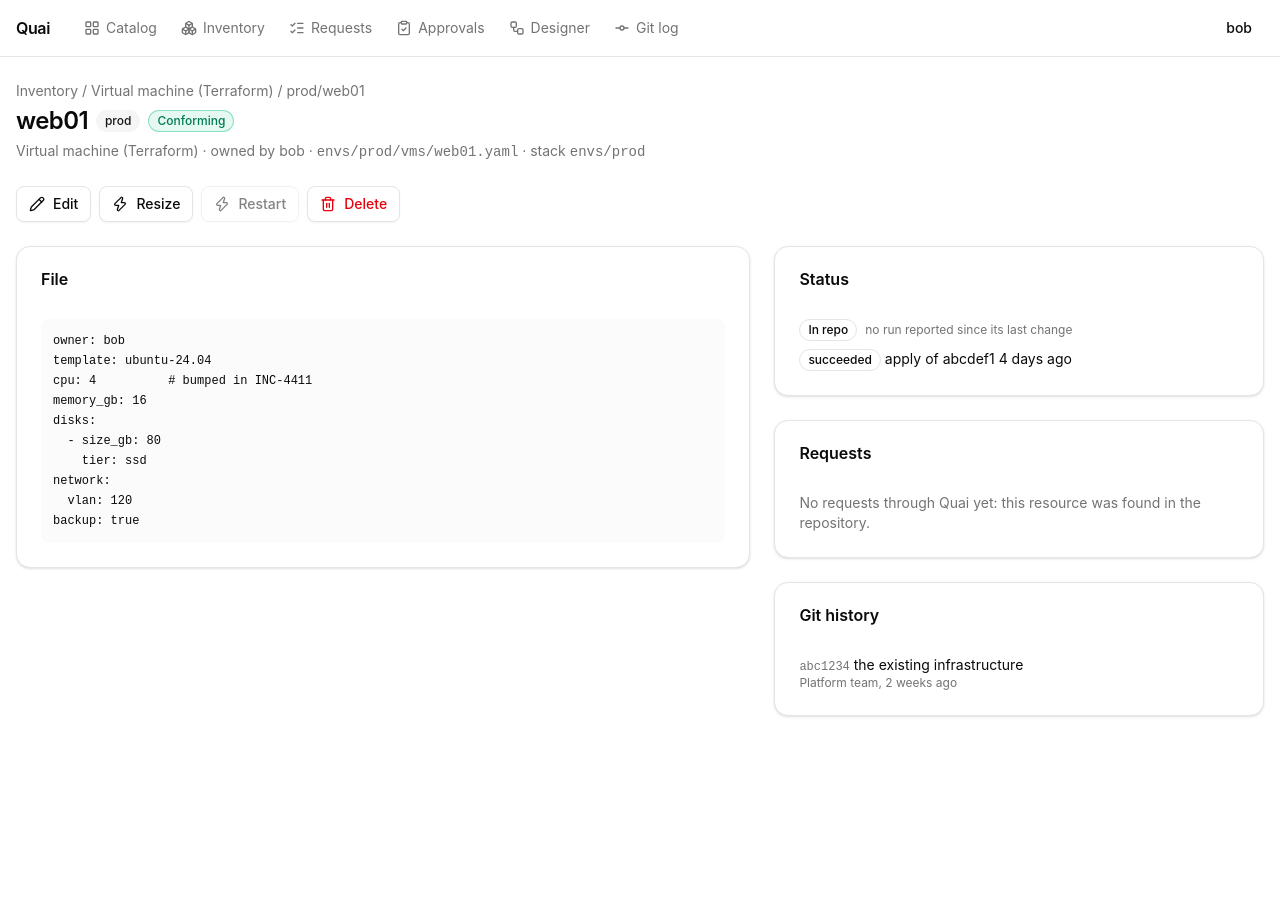
Test case: deleting previews the removal and its approvals
Click the button "Delete": (354, 204) [307, 186, 400, 222]
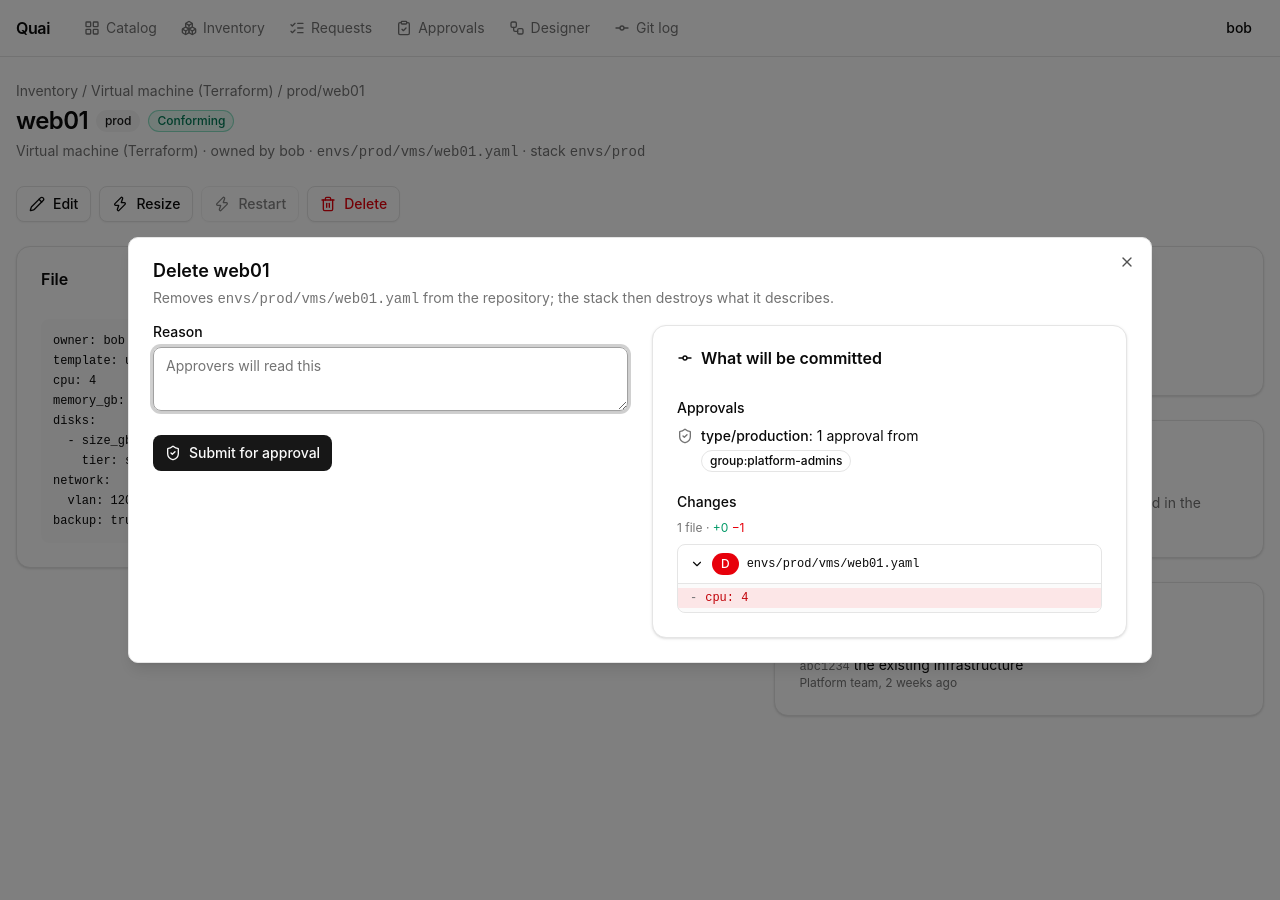
Expected: the text "type/production" is shown, [701, 427, 809, 444]
Expected: the text titled "delete" is shown, [721, 556, 730, 571]
Expected: the button "Submit for approval" is enabled, [153, 435, 332, 471]
